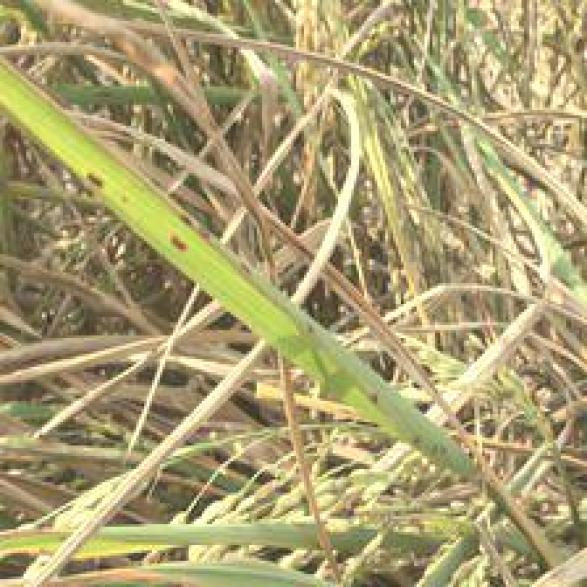Brown_Spot: (71, 155, 110, 194), (157, 220, 197, 254), (356, 383, 390, 406)
